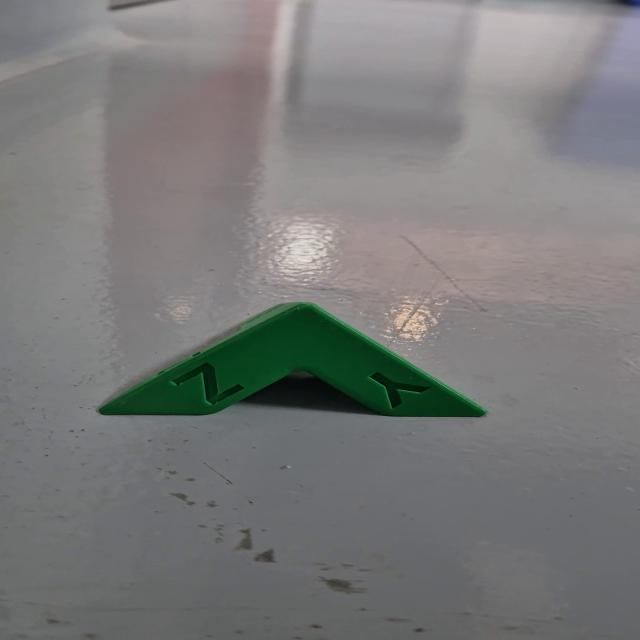objects: (89, 294, 498, 422)
